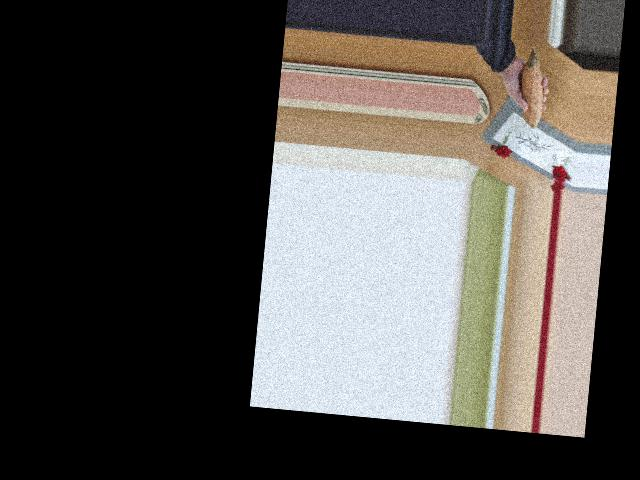sweet_potato: (510, 52, 550, 131)
